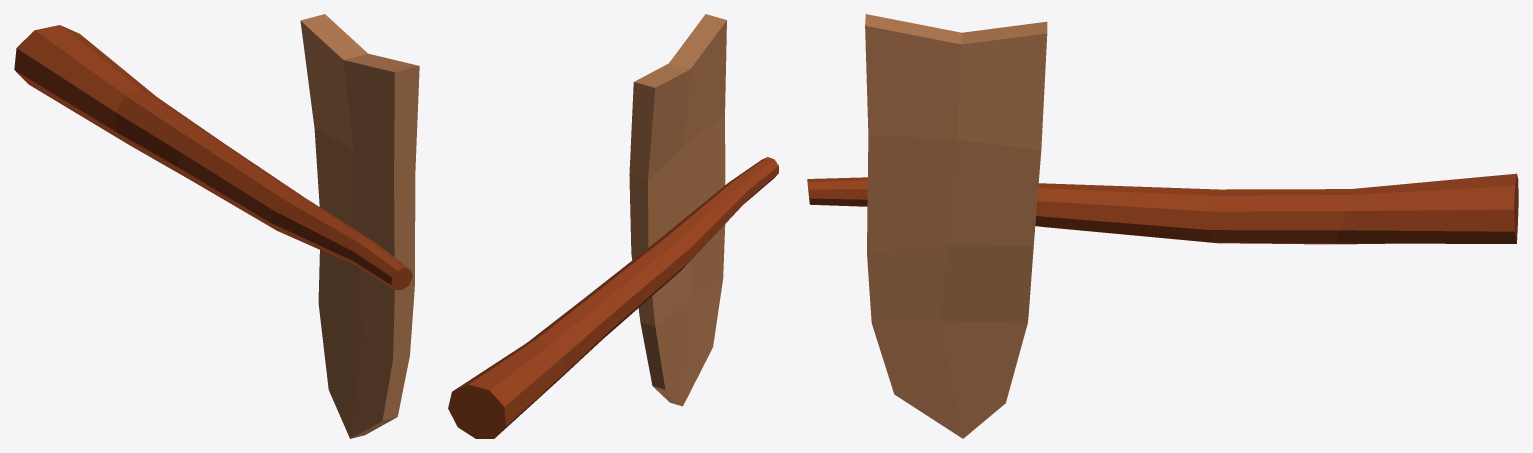
Rendered from left sign post.glb.
3 views of the same model, side by side, from view 1: azimuth 30°, elevation 25°; view 2: azimuth 150°, elevation 25°; view 3: azimuth 270°, elevation 25° (orthographic). The views are drawn at different scales.
Visible parts, largest first — view 1: Pfosten3; view 2: Pfosten3; view 3: Pfosten3.
Boxes of the visible parts, box(x1,y1,x2,y2) form: Pfosten3: box(14, 14, 419, 438); Pfosten3: box(448, 14, 778, 438); Pfosten3: box(807, 14, 1518, 438).
Size of the model in its own units: 0.2648 by 1.1 by 1.7.
